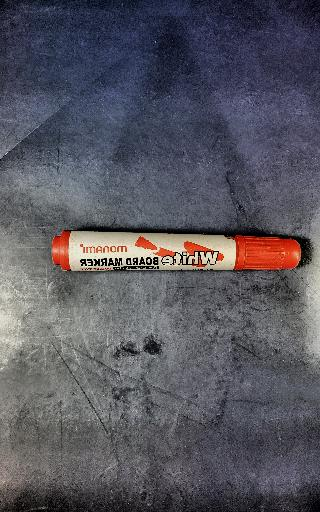marcador rojo: (52, 230, 300, 272)
